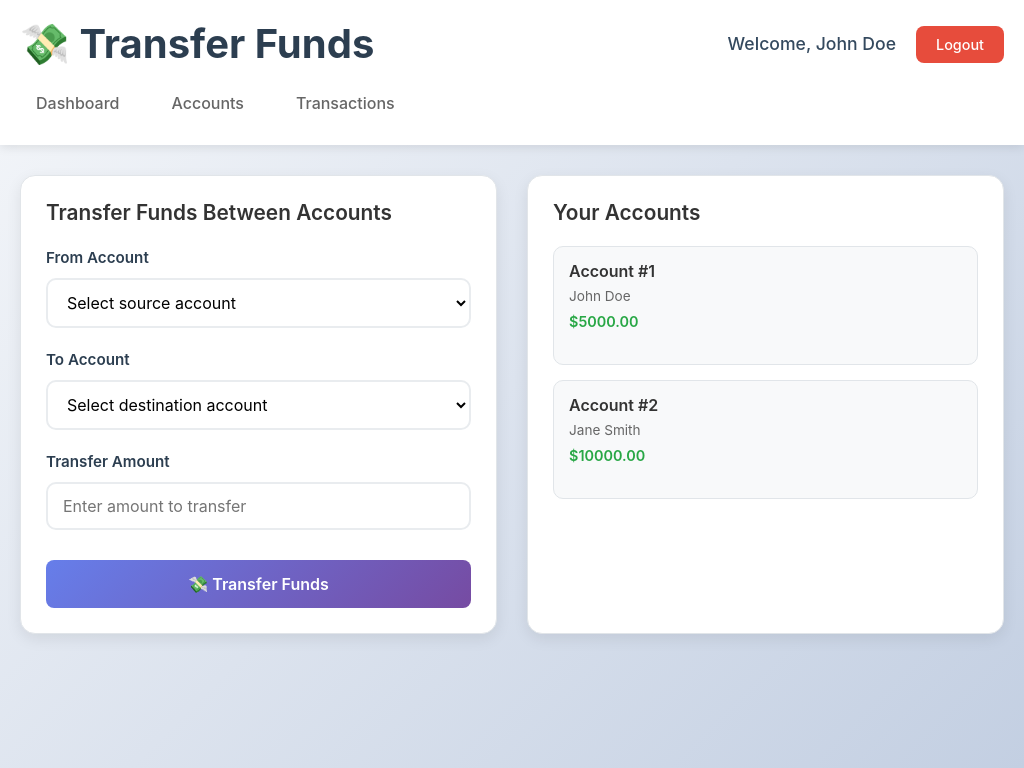
Test: Transfer Component › handles transfer API error
The width and height of the screenshot is (1024, 768).
Select "Account #1 - John Doe ($5000.00)" in the dropdown labelled "From Account" at (258,303), box x1=46 y1=278 x2=471 y2=328
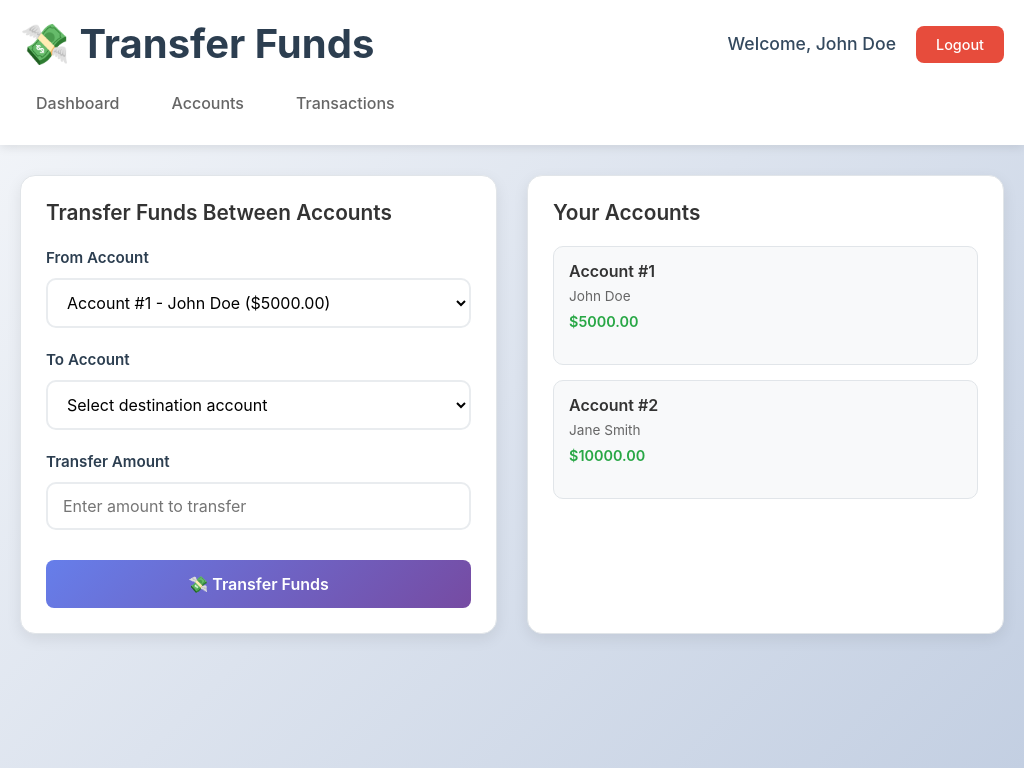
Select "Account #2 - Jane Smith ($10000.00)" in the dropdown labelled "To Account" at (258,405), box x1=46 y1=380 x2=471 y2=430
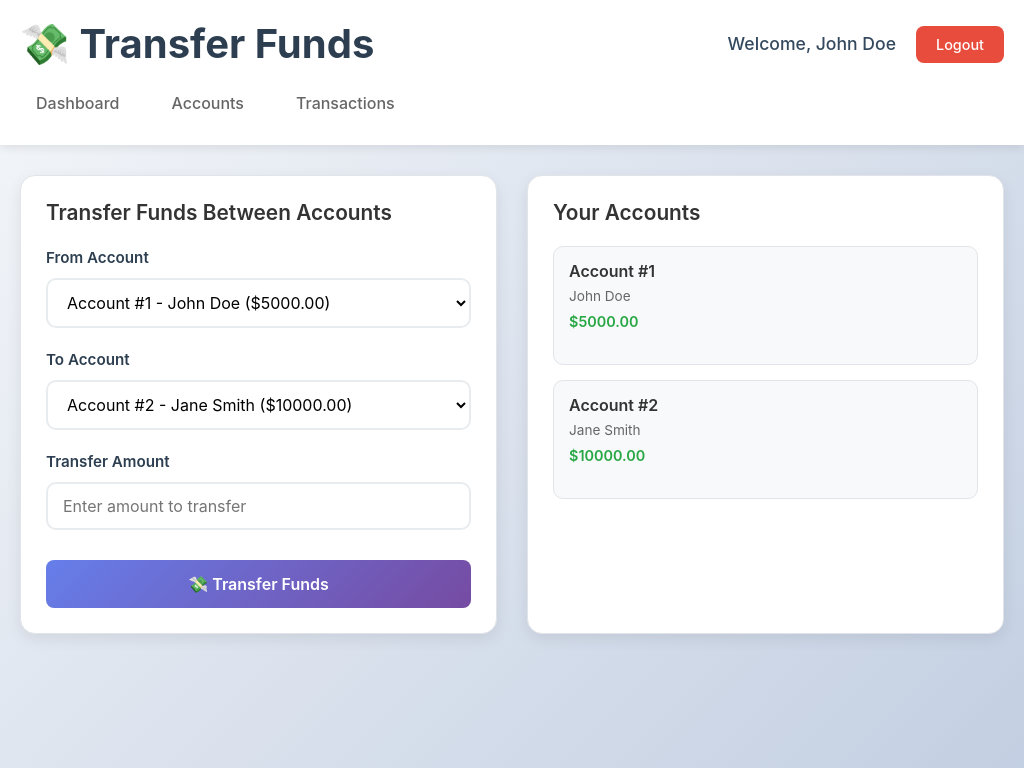
Type "1000" into the number field labelled "Transfer Amount".
click(258, 506); type("1000")  # box x1=46 y1=482 x2=471 y2=530
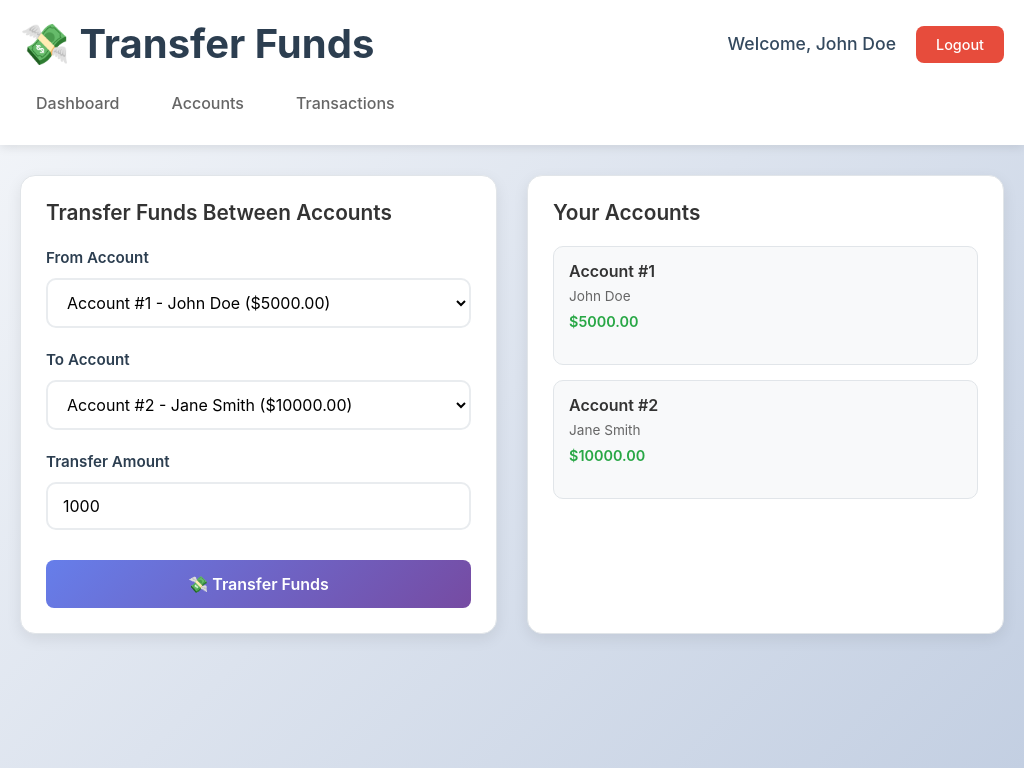
Click the button "💸 Transfer Funds".
click(258, 584)  # box x1=46 y1=560 x2=471 y2=608
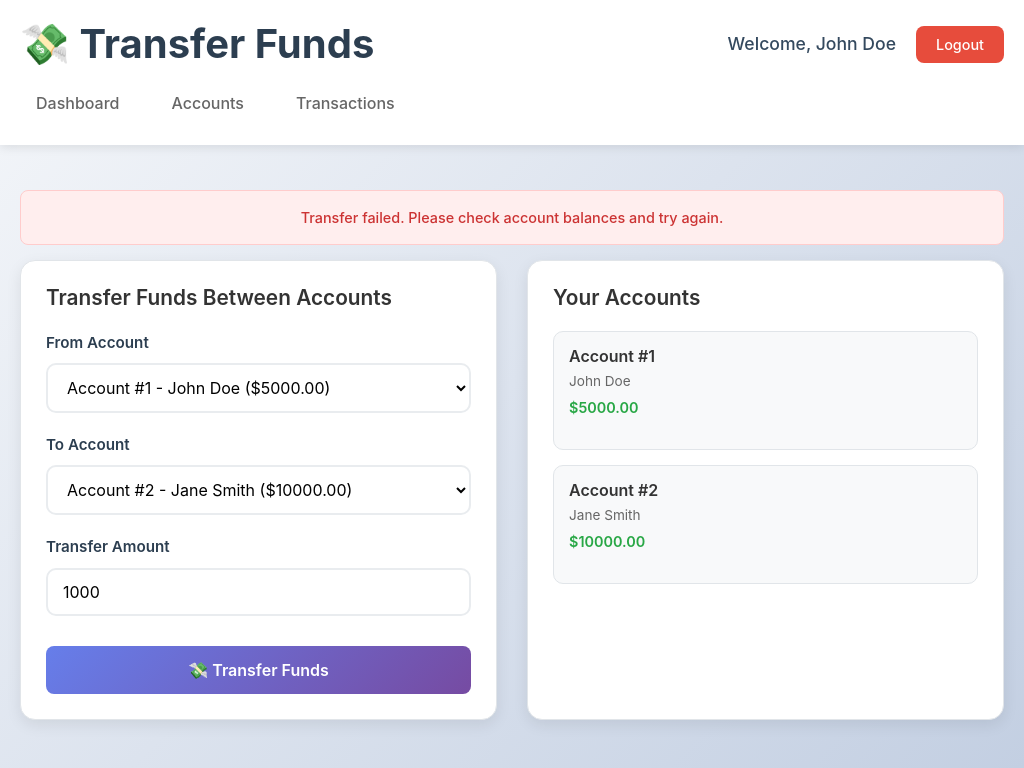
Now the text "Transfer failed. Please check account balances and try again." is shown, box x1=20 y1=190 x2=1004 y2=245
